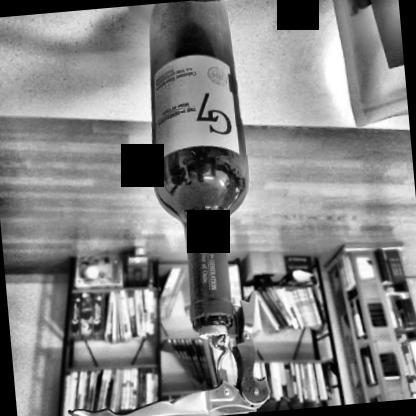G7: (148, 55, 240, 160)
